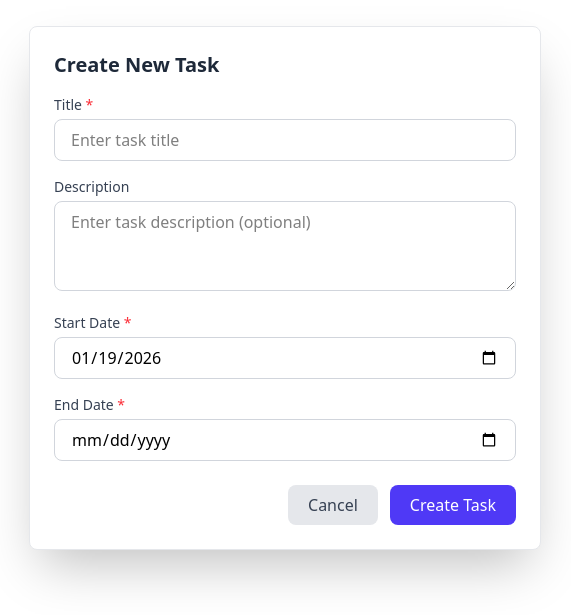
Test: AddTaskModal › Create Mode › should validate end date is after start date
Type "Test Task" into the field with placeholder "Enter task title" at (285, 140), box top-left (54, 119), bottom-right (516, 161)
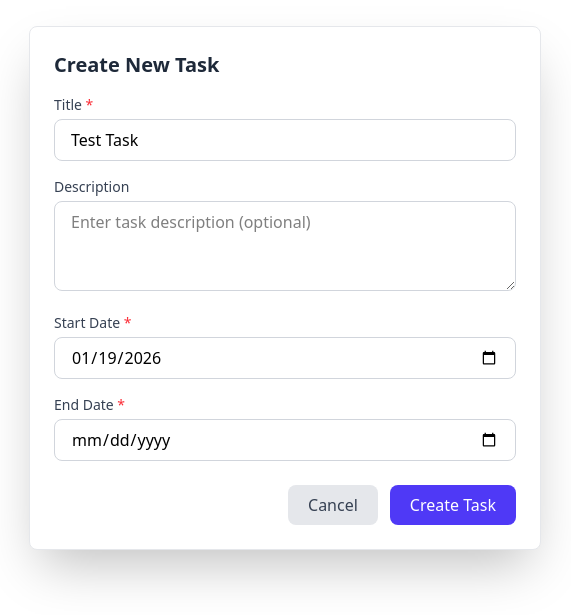
Type "2024-01-31" into the date field labelled "Start Date *" at (285, 358), box top-left (54, 337), bottom-right (516, 379)
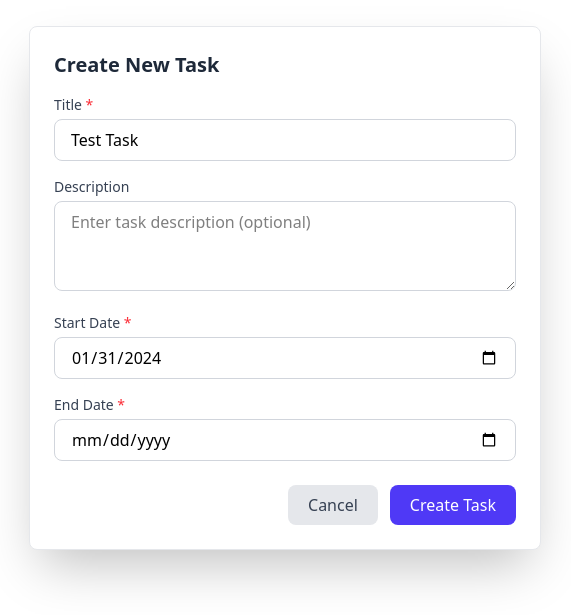
Type "2024-01-01" into the date field labelled "End Date *" at (285, 440), box top-left (54, 419), bottom-right (516, 461)
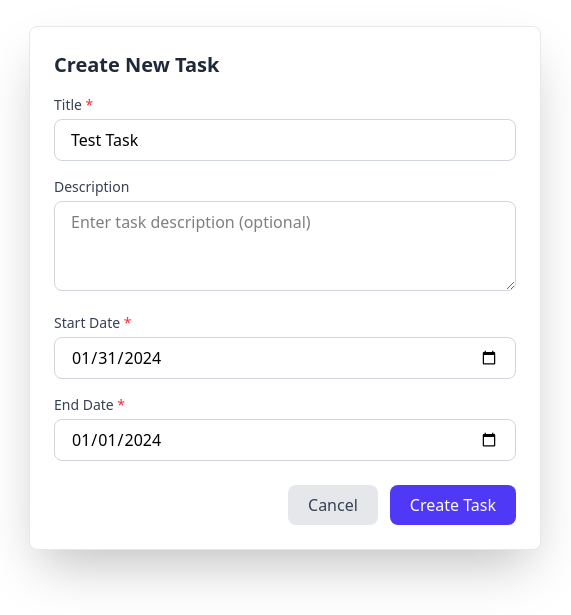
Submit the text "Create Task", box top-left (54, 95), bottom-right (516, 525)
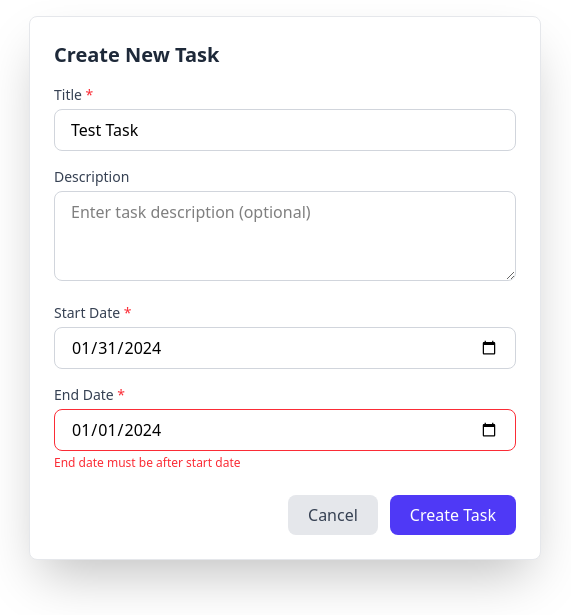
Now the text "End date must be after start date" is shown, box top-left (54, 454), bottom-right (240, 471)
